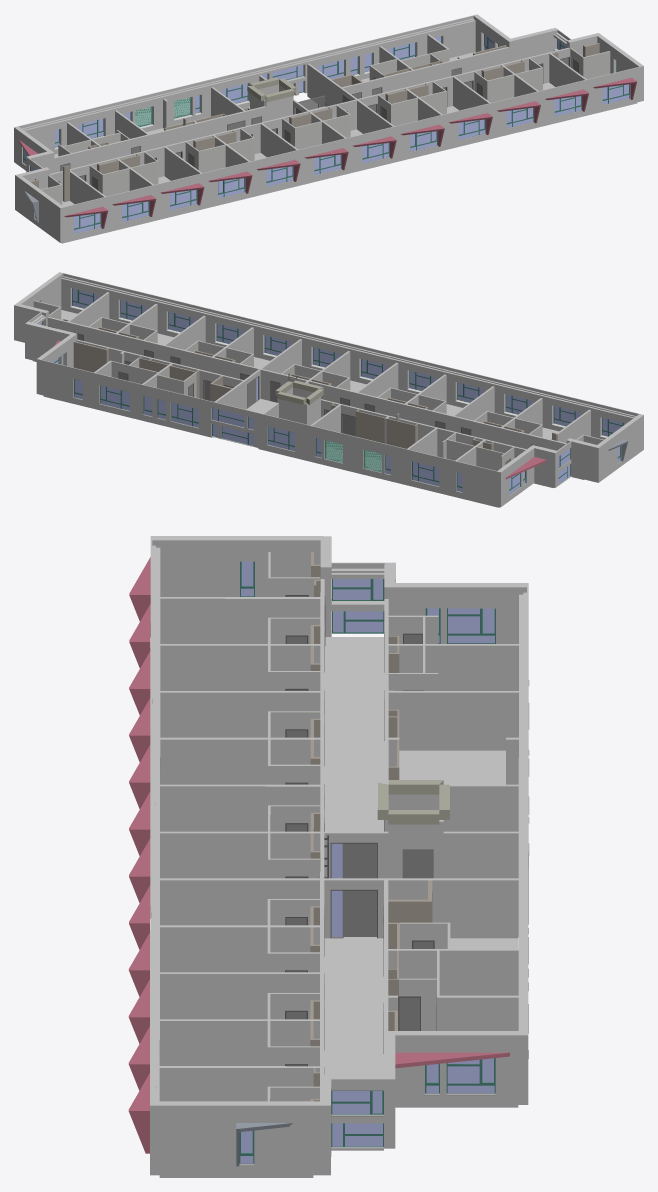
File: floor4_o2.glb
3 views of the same model, one above another, from view 1: azimuth 30°, elevation 25°; view 2: azimuth 150°, elevation 25°; view 3: azimuth 270°, elevation 25° (orthographic). The views are drawn at different scales.
Parts seen in each view (by area): view 1: IfcWallStandardCase/ARSS-01.103, IfcWallStandardCase/ARSS-04.132, IfcWindow/ARA.234, IfcWall/ARSEIN - 018.031, IfcWallStandardCase/ARSS-03.063, IfcDoor/ARSU.164, IfcWallStandardCase/ARSS-01.105; view 2: IfcWallStandardCase/ARSS-01.103, IfcWindow/ARA.234, IfcWallStandardCase/ARSS-04.132, IfcWallStandardCase/ARSS-03.063, IfcDoor/ARSU.164, IfcWallStandardCase/ARSS-01.105, IfcWindow/ARA.238; view 3: IfcWallStandardCase/ARSS-01.103, IfcWallStandardCase/ARSS-04.132, IfcWindow/ARA.234, IfcWall/ARSEIN - 018.031, IfcDoor/ARSU.164, IfcWallStandardCase/ARSS-03.063, IfcWallStandardCase/ARSS-01.105.
Part boxes in pixels (x1,y1,x2,y2): IfcWallStandardCase/ARSS-01.103: (14, 14, 643, 243); IfcWallStandardCase/ARSS-04.132: (41, 48, 610, 204); IfcWindow/ARA.234: (22, 34, 630, 234); IfcWall/ARSEIN - 018.031: (18, 77, 636, 228); IfcWallStandardCase/ARSS-03.063: (30, 43, 599, 201); IfcDoor/ARSU.164: (51, 57, 578, 190); IfcWallStandardCase/ARSS-01.105: (247, 77, 296, 102); IfcWallStandardCase/ARSS-01.103: (14, 272, 643, 507); IfcWindow/ARA.234: (39, 288, 625, 496); IfcWallStandardCase/ARSS-04.132: (33, 300, 603, 470); IfcWallStandardCase/ARSS-03.063: (62, 319, 557, 450); IfcDoor/ARSU.164: (48, 326, 541, 464); IfcWallStandardCase/ARSS-01.105: (275, 380, 323, 404); IfcWindow/ARA.238: (70, 306, 607, 471); IfcWallStandardCase/ARSS-01.103: (150, 536, 528, 1177); IfcWallStandardCase/ARSS-04.132: (267, 552, 450, 1101); IfcWindow/ARA.234: (239, 561, 529, 1165); IfcWall/ARSEIN - 018.031: (128, 557, 509, 1153); IfcDoor/ARSU.164: (285, 595, 436, 1073); IfcWallStandardCase/ARSS-03.063: (310, 552, 432, 1101); IfcWallStandardCase/ARSS-01.105: (377, 780, 449, 824).
Bounding box in the file's own units: 64.42 × 4.47 × 18.77.
